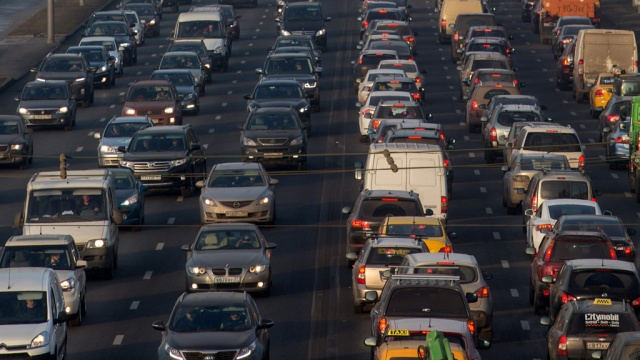Car: (15, 170, 121, 279), (396, 252, 493, 348), (152, 291, 274, 360), (0, 235, 87, 326), (355, 142, 447, 226), (365, 275, 478, 342), (529, 229, 618, 313), (342, 189, 433, 268), (182, 224, 276, 294), (0, 266, 68, 360), (119, 125, 207, 197), (542, 259, 640, 321), (541, 299, 640, 360), (352, 237, 431, 313), (517, 169, 602, 232), (195, 163, 279, 224), (384, 129, 454, 200), (573, 29, 638, 103), (523, 198, 612, 252), (479, 103, 553, 163), (501, 153, 571, 215), (382, 318, 483, 360), (240, 107, 308, 169), (552, 214, 636, 262), (255, 53, 323, 112), (504, 123, 586, 171), (170, 11, 232, 71), (88, 167, 145, 230), (248, 78, 310, 134), (479, 95, 547, 144), (35, 53, 96, 106), (93, 115, 154, 167), (355, 90, 415, 142), (376, 215, 458, 253), (120, 79, 183, 126), (463, 82, 521, 133), (17, 80, 76, 129), (276, 1, 331, 51), (540, 0, 601, 45), (456, 54, 518, 96), (449, 13, 502, 62), (364, 99, 428, 139), (364, 336, 468, 360), (82, 21, 137, 65), (154, 51, 207, 95), (150, 69, 201, 114), (619, 96, 640, 202), (351, 50, 400, 94), (596, 95, 640, 144), (66, 46, 116, 89), (499, 122, 558, 158), (435, 0, 484, 42), (166, 38, 213, 81), (377, 60, 427, 100), (364, 75, 426, 107), (586, 69, 624, 118), (79, 36, 124, 77), (0, 115, 34, 168), (356, 69, 406, 104), (456, 37, 515, 66), (395, 122, 456, 149), (463, 69, 526, 95), (373, 21, 416, 57), (552, 16, 593, 53), (555, 25, 597, 61), (603, 115, 631, 168), (120, 3, 161, 38), (462, 25, 515, 52), (368, 119, 425, 144), (591, 331, 640, 360), (266, 35, 323, 59), (358, 9, 402, 40), (367, 40, 418, 66), (109, 10, 146, 45), (82, 11, 135, 34), (189, 5, 231, 33), (557, 35, 578, 91), (211, 4, 241, 41), (269, 47, 321, 67), (356, 32, 403, 52), (116, 0, 163, 19), (456, 51, 501, 68), (607, 73, 640, 96), (363, 19, 390, 43), (375, 8, 413, 25), (361, 1, 398, 17), (276, 0, 314, 15), (377, 0, 408, 15), (522, 0, 539, 22), (530, 0, 540, 32), (219, 0, 258, 8), (368, 29, 403, 37), (163, 0, 178, 13), (361, 0, 377, 12), (482, 0, 496, 13), (274, 13, 281, 27), (438, 0, 444, 10), (178, 0, 192, 4)
